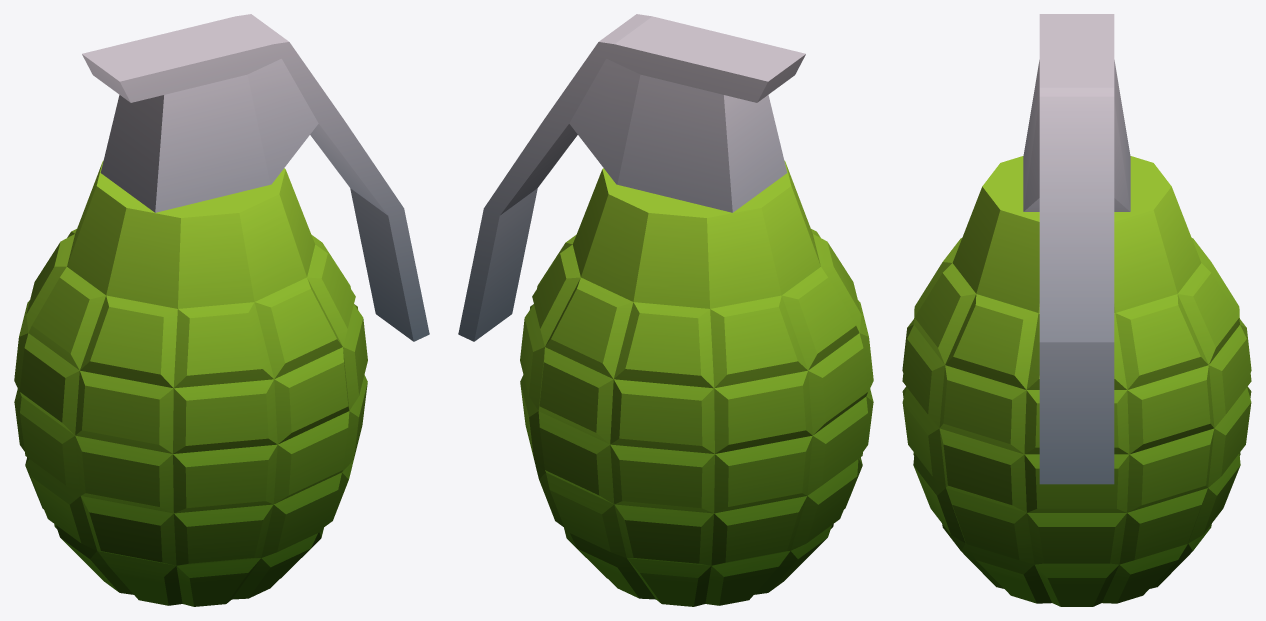
Rendered from weapon_grenade.glb.
The picture shows the model from 3 angles, left to right: view 1: azimuth 30°, elevation 25°; view 2: azimuth 150°, elevation 25°; view 3: azimuth 270°, elevation 25°; orthographic projection.
Visible parts, largest first — view 1: body, handle; view 2: body, handle; view 3: body, handle.
Part boxes in pixels (x1=…): body: x1=14, y1=160, x2=367, y2=606; handle: x1=82, y1=14, x2=429, y2=341; body: x1=520, y1=160, x2=873, y2=606; handle: x1=458, y1=14, x2=805, y2=341; body: x1=902, y1=156, x2=1251, y2=606; handle: x1=1023, y1=14, x2=1130, y2=484.
Bounding box in the file's own units: 0.2251 × 0.3047 × 0.1877.
1 material, 1 textured.
